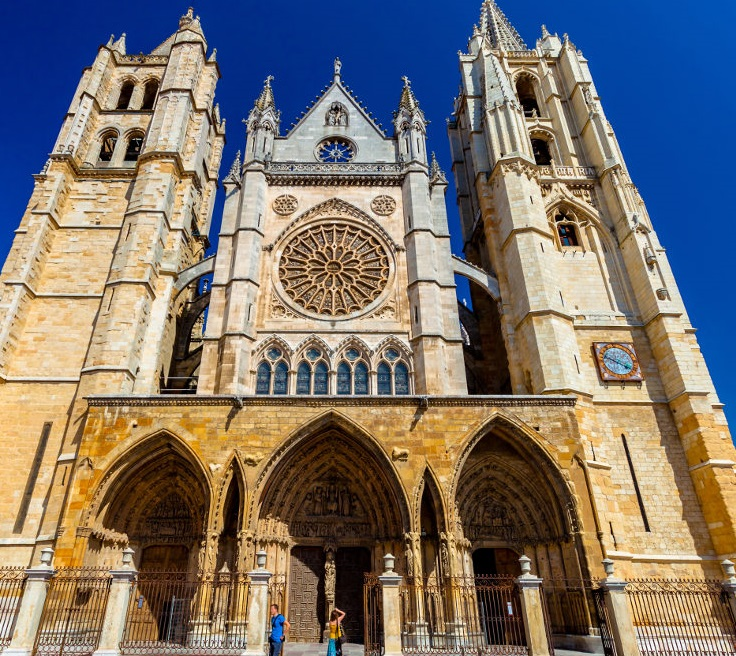arco-apuntado: (250, 409, 414, 534), (448, 412, 583, 532), (84, 427, 212, 532), (267, 192, 403, 259), (412, 459, 449, 532), (215, 447, 247, 530), (292, 332, 332, 372), (252, 333, 292, 370), (333, 334, 373, 371), (374, 334, 412, 372)
pinaculo-gotico: (394, 73, 423, 121), (249, 72, 280, 116)
